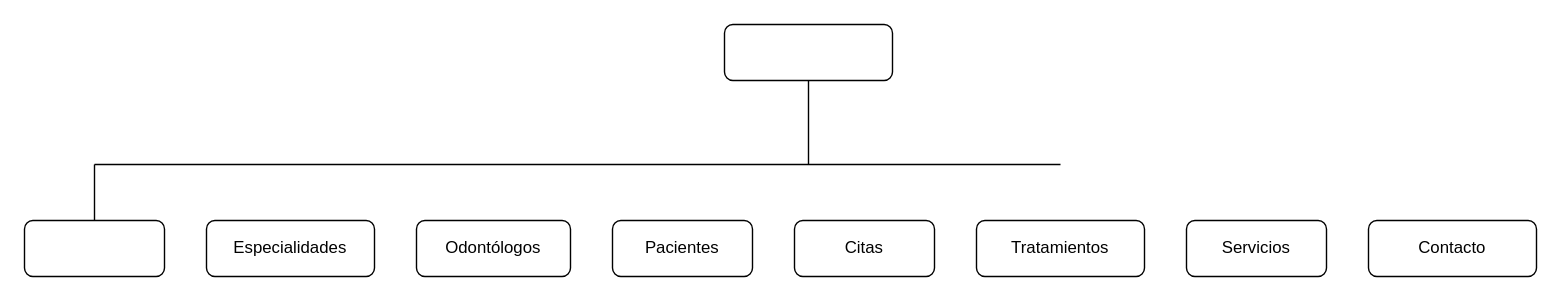
This 1561x301 diagram has some shape labels left out. The shapes that lost their labels are listed below. From the top down, each one's centre as x and y in pixels, then its label:
At (807,51): "Inicio (Home)".
At (93,247): "Nosotros".
